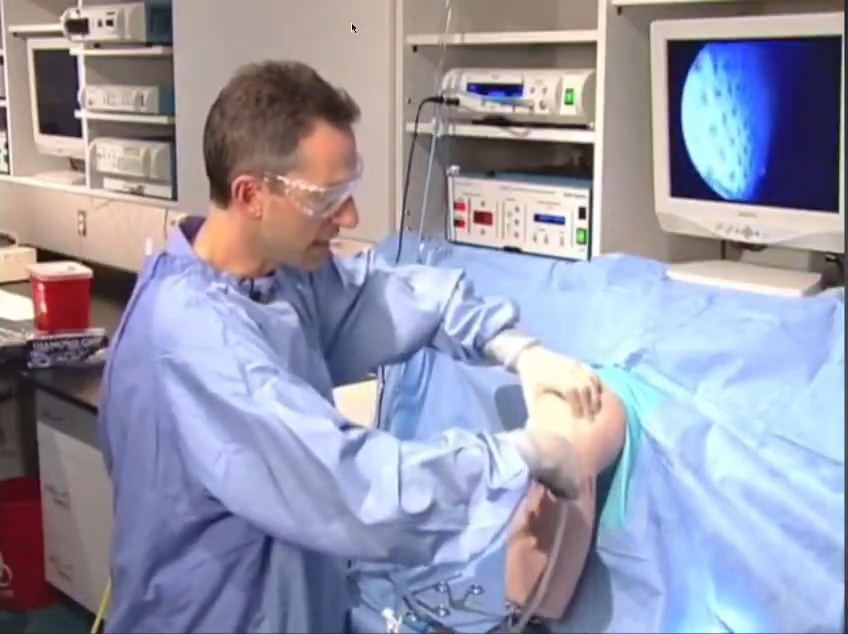probe: (282, 224, 376, 367), (680, 573, 764, 634)
